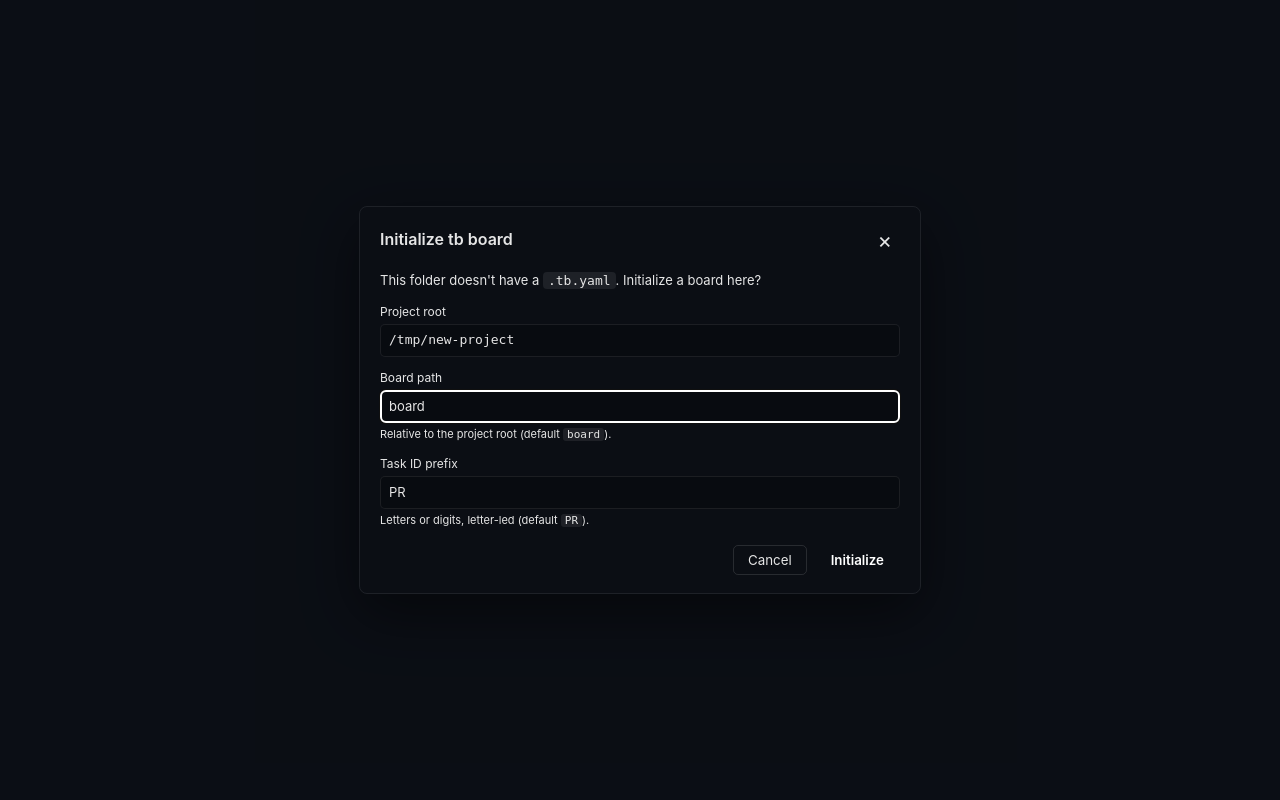
Test: InitBoardDialog › blocks submit when the board path escapes the project root
Type "../etc" into the field labelled "Board path Relative to the project root (default board)." at (640, 407), box [380,390,900,423]
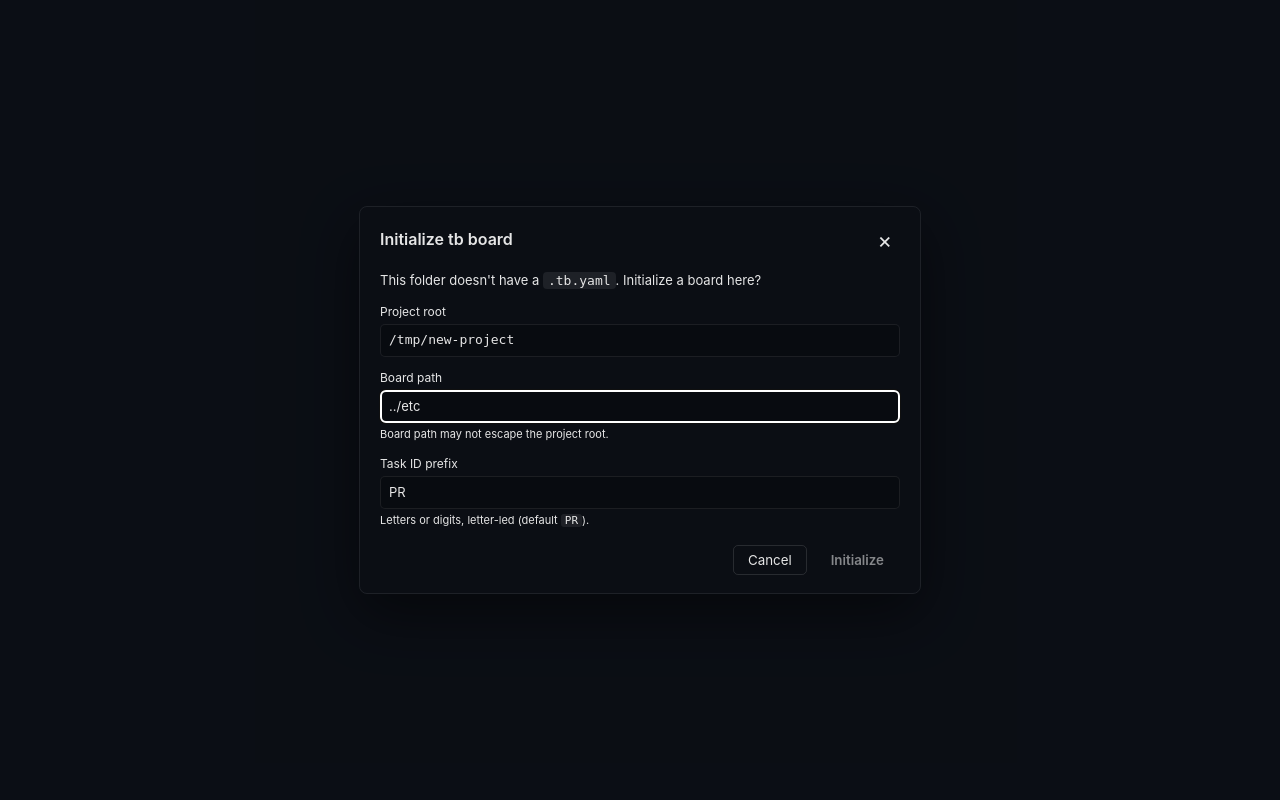
expect the button "Initialize" is disabled: met, box [815,545,900,575]
